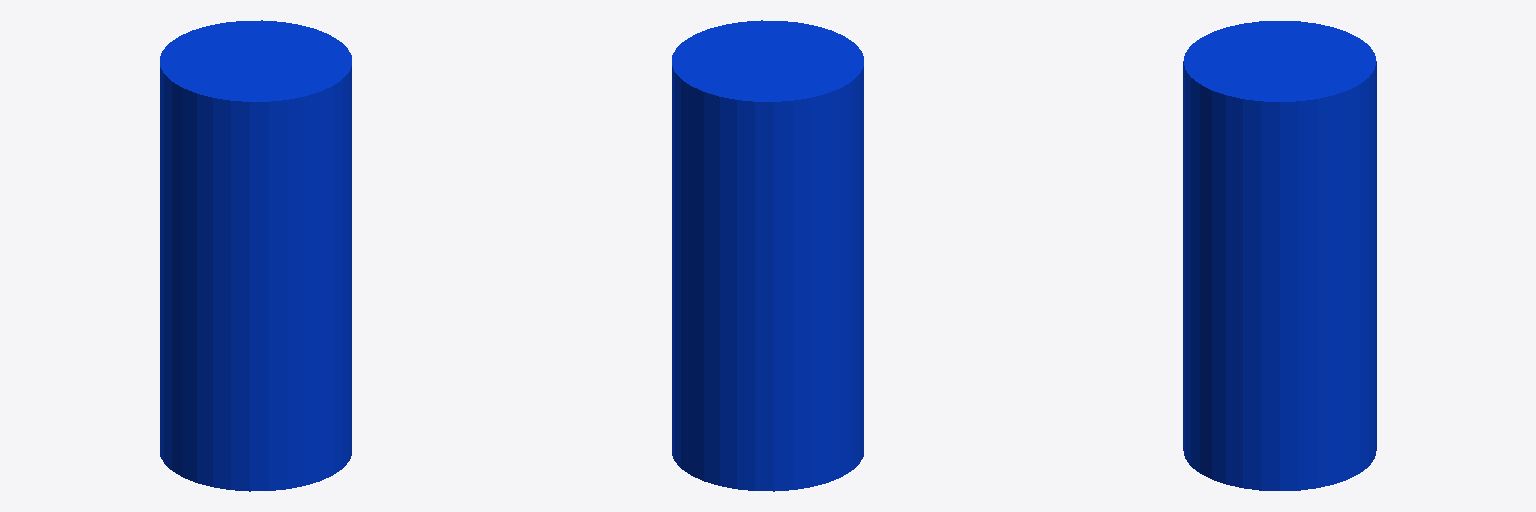
robot.urdf — pillar:
<?xml version="1.0"?>
<robot name="pillar">

    <link name="circle_zone">
        <visual>
            <geometry>
                <cylinder length="2" radius="0.45"/>
            </geometry>
            <material name="blue">
                <color rgba="0.05 0.3 0.9 0.6"/>
            </material>
            <origin xyz="0 0 1"/>
        </visual>
        <inertial>
            <mass value="1"/>
            <inertia ixx="0" ixy="0" ixz="0" iyy="0" iyz="0" izz="0"/>
        </inertial>
    </link>

</robot>

--- Facts derived from the render (not from the file) ---
3 views of the same robot in one strip: view 1: azimuth 30°, elevation 25°; view 2: azimuth 150°, elevation 25°; view 3: azimuth 270°, elevation 25° (orthographic).
Model pillar with 1 links and 0 joints (none), rooted at circle_zone, posed every joint at zero.
Links seen in each view (by area): view 1: circle_zone; view 2: circle_zone; view 3: circle_zone.
Link boxes in pixels (x1,y1,x2,y2): circle_zone: (160, 20, 351, 491); circle_zone: (672, 20, 863, 491); circle_zone: (1183, 21, 1376, 490).
Size in the robot's own frame: 0.9 by 0.9 by 2 metres.
Geometry: primitives only (box / cylinder / sphere), no mesh files.